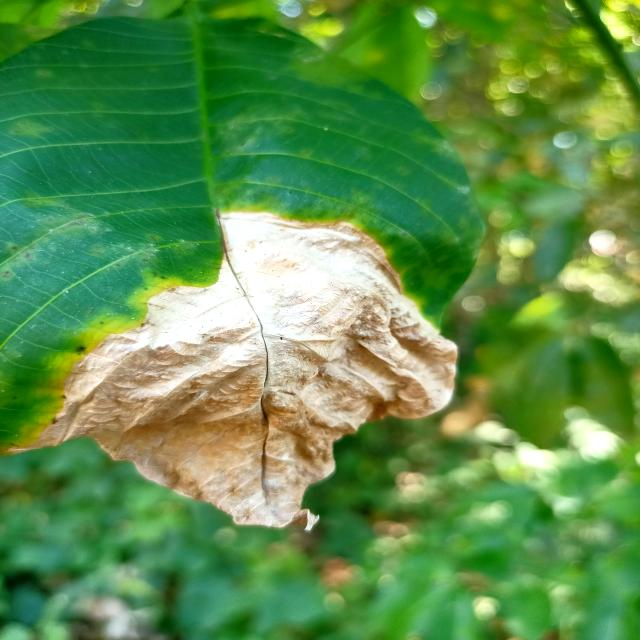Leaf-Blight: (34, 210, 457, 531)
